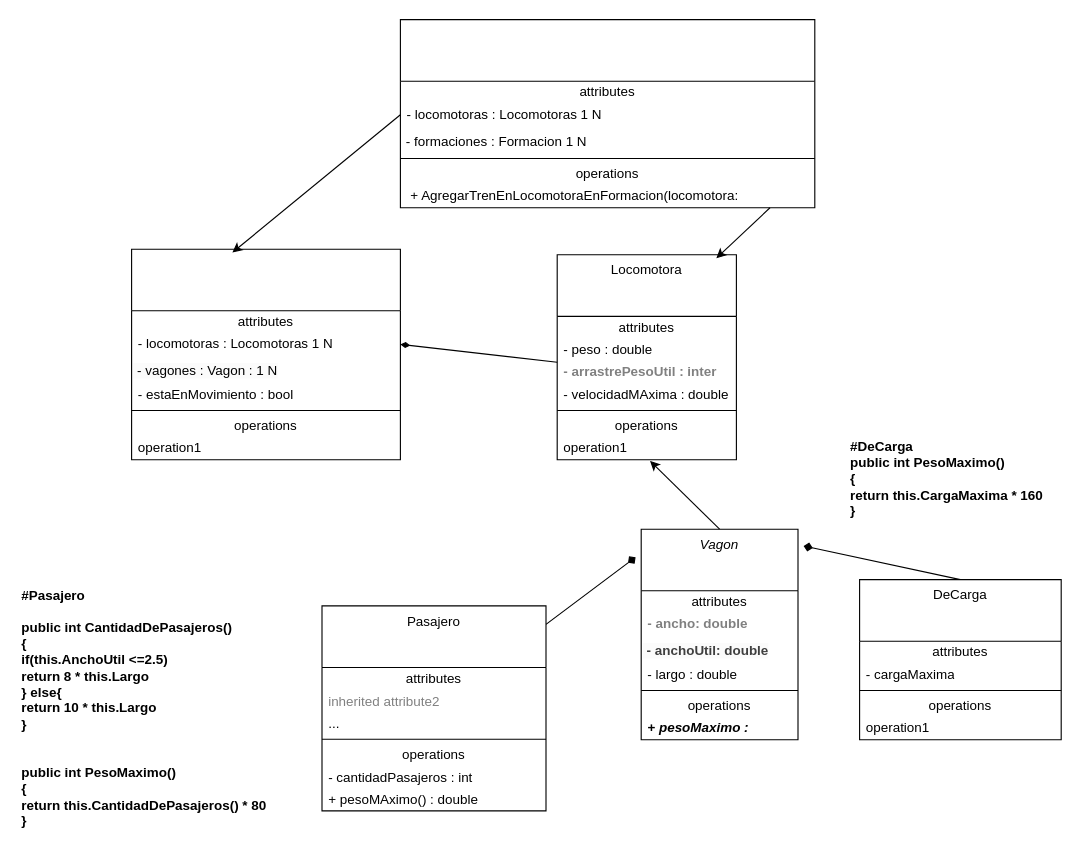
Image size: 1091x857. Some labels were removed from this diagram. Here are the shapes that lost their labels. From the top down, the box of each, then its label:
(399, 18, 815, 208): Deposito
(130, 248, 400, 460): Formacion
